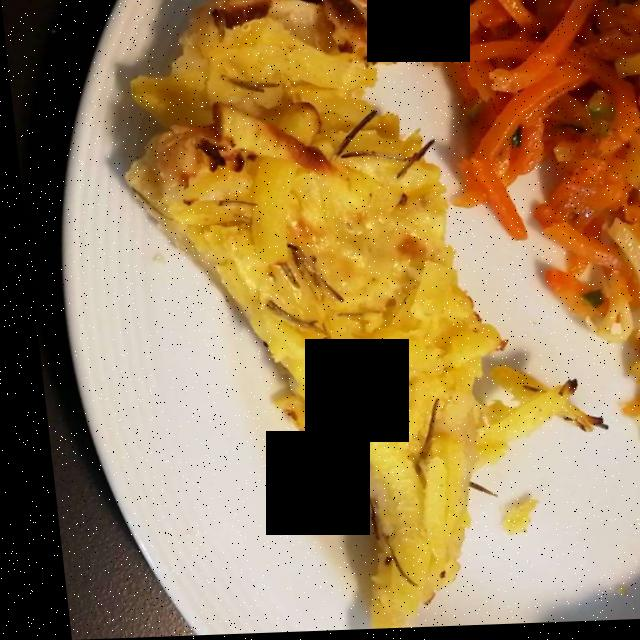rosti: (131, 10, 571, 594)
